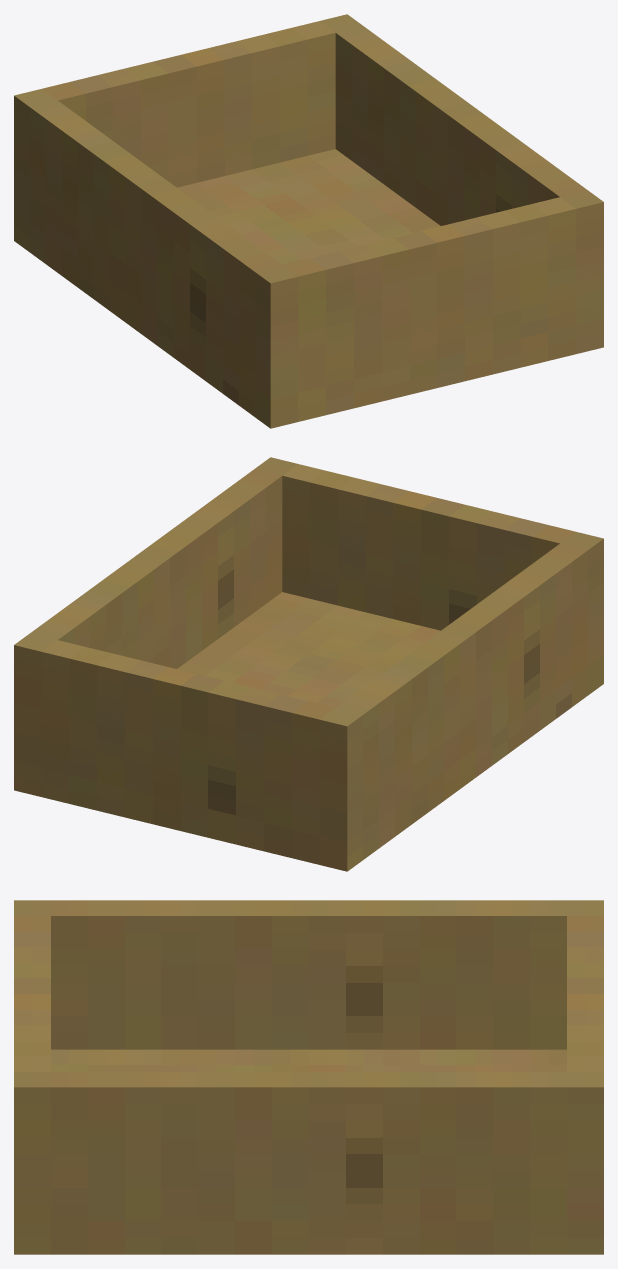
Rendered from marketbox.obj.
The picture shows the model from 3 angles, top to bottom: view 1: azimuth 30°, elevation 25°; view 2: azimuth 150°, elevation 25°; view 3: azimuth 270°, elevation 25°; orthographic projection. The views are drawn at different scales.
Parts seen in each view (by area): view 1: g0; view 2: g0; view 3: g0.
Boxes of the visible parts, bbox=[...] form: g0: bbox=[14, 14, 603, 428]; g0: bbox=[14, 457, 603, 871]; g0: bbox=[14, 900, 603, 1254].
Size of the model in its own units: 0.75 by 0.3125 by 1.
